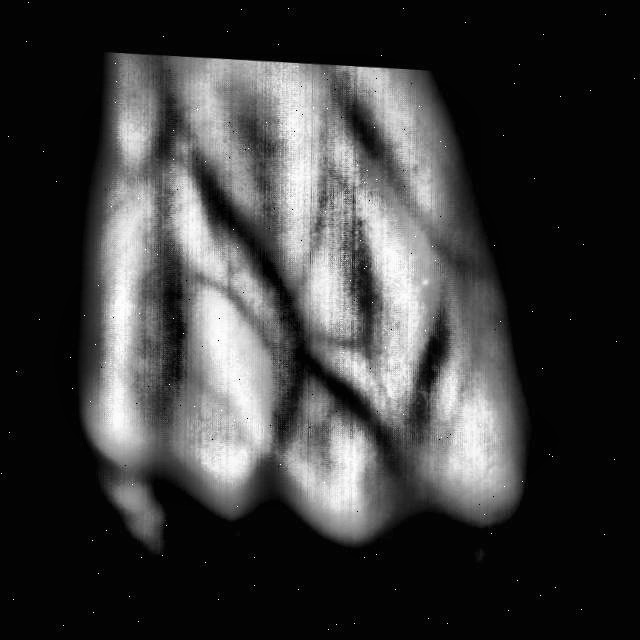Vein: (178, 137, 312, 344)
